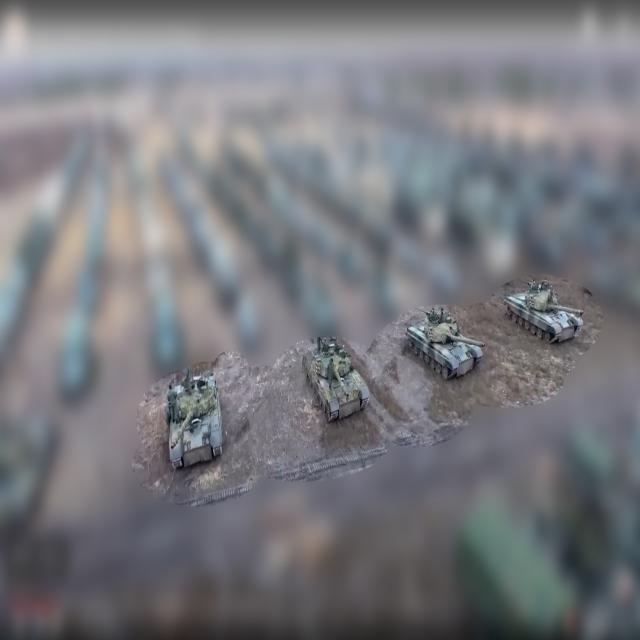tank: (163, 366, 224, 473), (300, 336, 370, 428), (405, 306, 484, 380), (503, 277, 584, 344)
